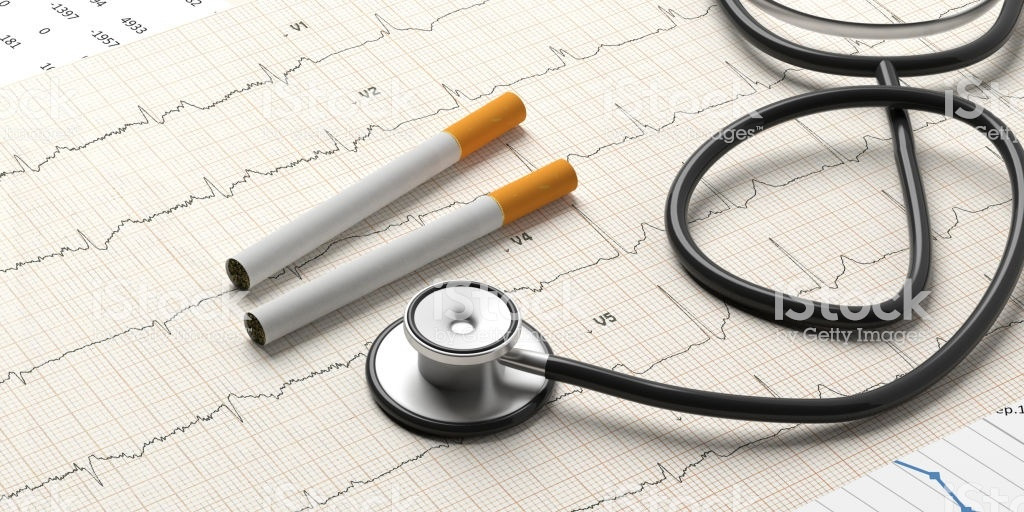sigaretta: (224, 91, 532, 286), (241, 159, 580, 327)
